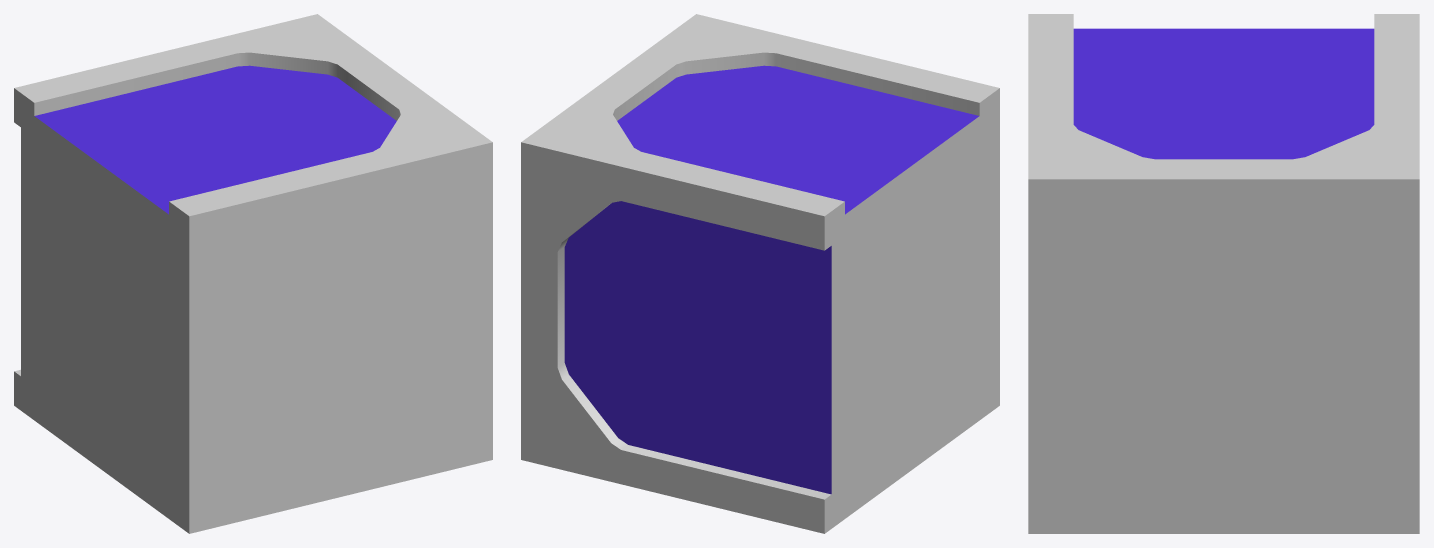
File: Bok_2_full.fbx
The picture shows the model from 3 angles, left to right: view 1: azimuth 30°, elevation 25°; view 2: azimuth 150°, elevation 25°; view 3: azimuth 270°, elevation 25°; orthographic projection. The views are drawn at different scales.
Visible parts, largest first — view 1: STRONG Base Model.444; view 2: STRONG Base Model.444; view 3: STRONG Base Model.444.
Boxes of the visible parts, x1,y1,x2,y2 form: STRONG Base Model.444: [14, 14, 492, 533]; STRONG Base Model.444: [521, 14, 999, 533]; STRONG Base Model.444: [1028, 14, 1419, 533].
Bounding box in the file's own units: 21.69 × 21.69 × 21.69.
